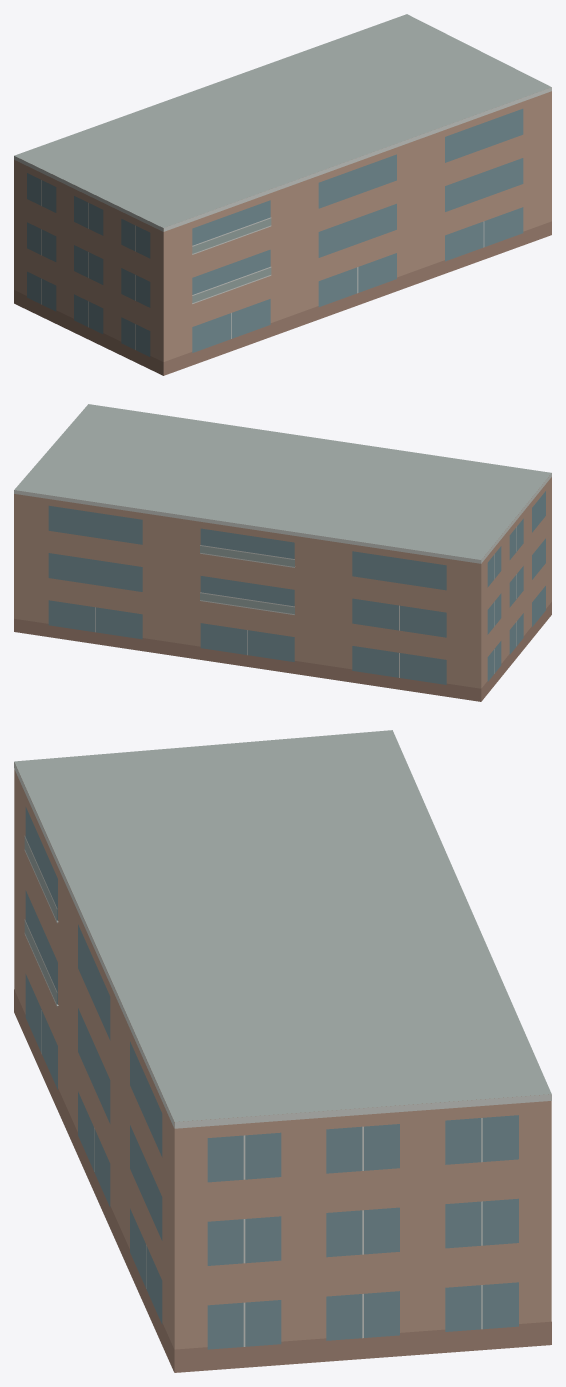
Rendered from survey-upis-32678793.glb.
3 views of the same model, one above another, from view 1: azimuth 30°, elevation 25°; view 2: azimuth 150°, elevation 25°; view 3: azimuth 270°, elevation 25° (orthographic). The views are drawn at different scales.
Visible parts, largest first — view 1: survey-upis-32678793.tmp; view 2: survey-upis-32678793.tmp; view 3: survey-upis-32678793.tmp.
Boxes of the visible parts, <box> form: survey-upis-32678793.tmp: <box>14,14,551,375</box>; survey-upis-32678793.tmp: <box>14,404,551,701</box>; survey-upis-32678793.tmp: <box>14,730,551,1372</box>.
Bounding box in the file's own units: 30.69 × 9.15 × 17.79.
